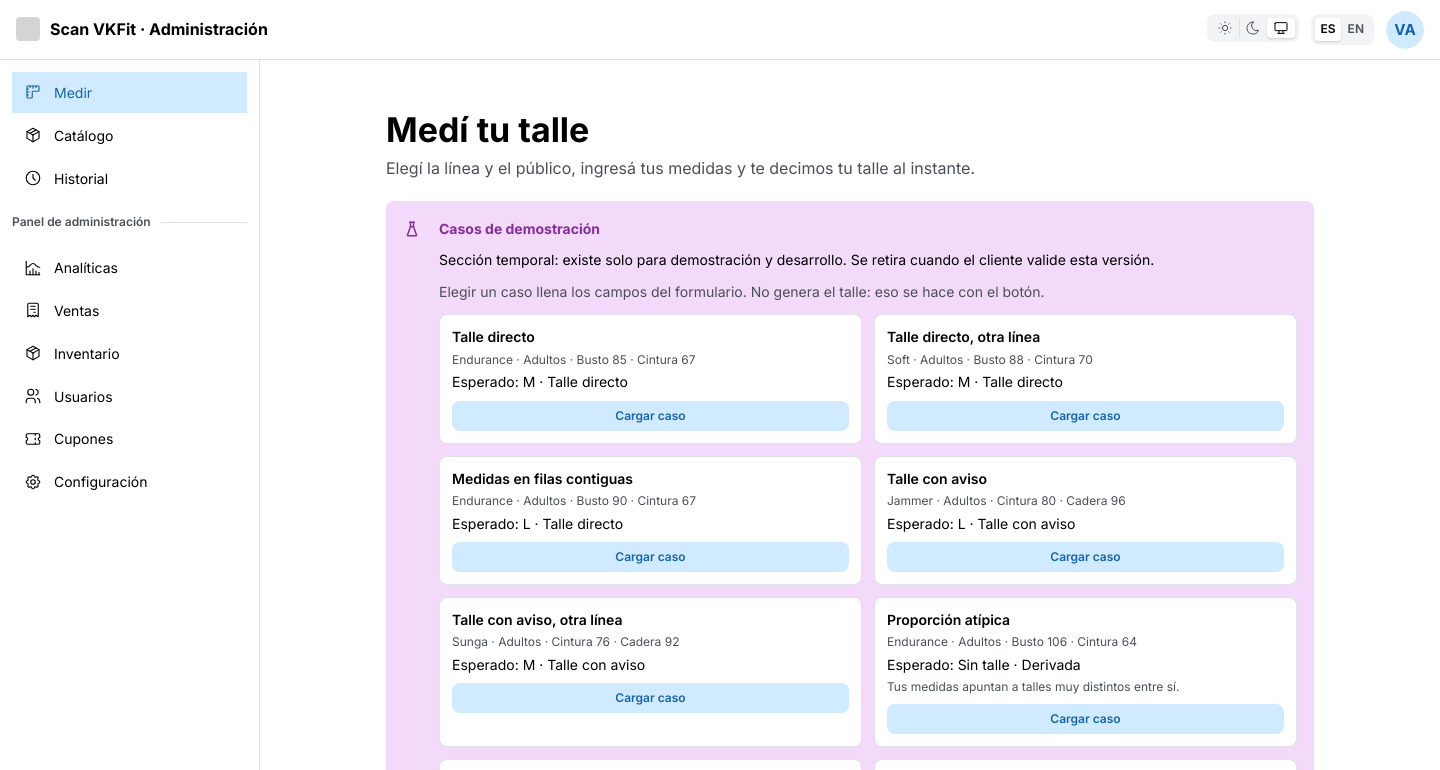
Test: caso warningSunga contra el motor › llena el formulario con sus medidas y devuelve el talle esperado
Click the button "Cargar caso" below "M · Talle con aviso" at [650, 698], box [452, 683, 849, 713]
(page scrolled)
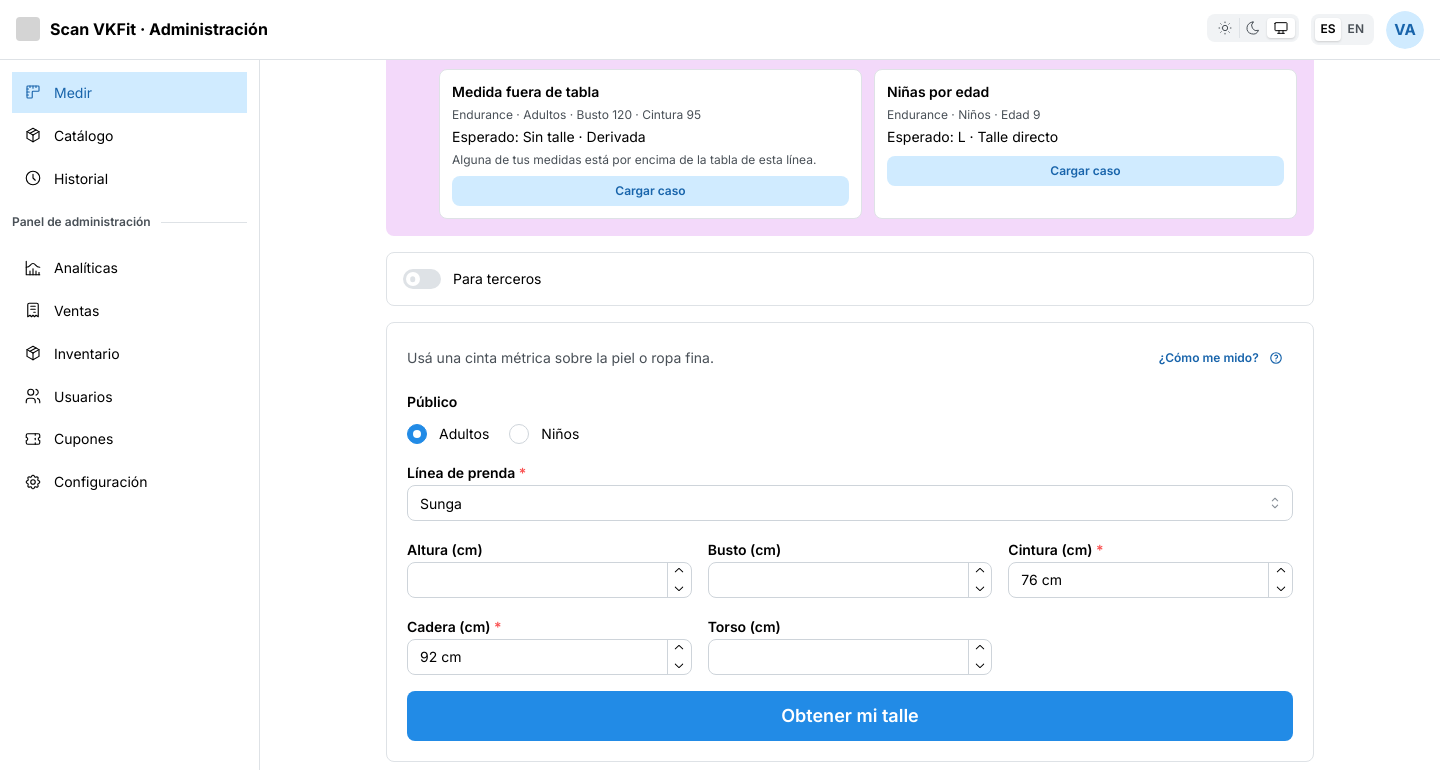
Now the field labelled "Cintura (cm) *" holds "76 cm", box [1008, 562, 1293, 598]
Now the dropdown labelled "Línea de prenda *" holds "Sunga", box [407, 485, 1293, 521]
Now the radio button labelled "Adultos" is checked, box [407, 424, 427, 444]
// Generar a mano devuelve lo que la pantalla declaró como esperado.
Click the button "Obtener mi talle" at [850, 716], box [407, 691, 1293, 741]
(page scrolled)
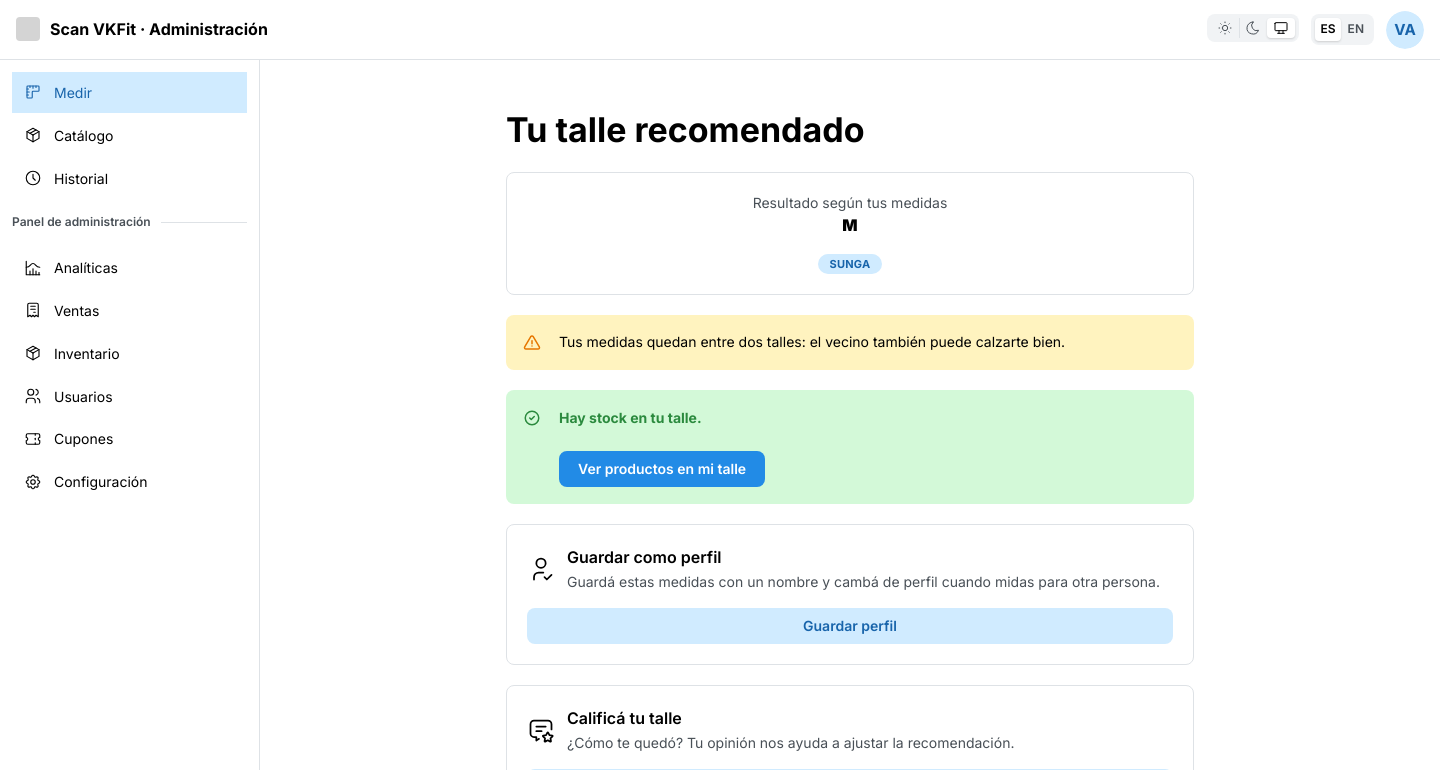
Expected: the text "M" is shown, [842, 216, 858, 236]
Now the heading "Tu talle recomendado" is shown, box [506, 109, 864, 150]
Now the text "Tus medidas quedan entre dos talles: el vecino también puede calzarte bien." is shown, box [559, 333, 1065, 350]
